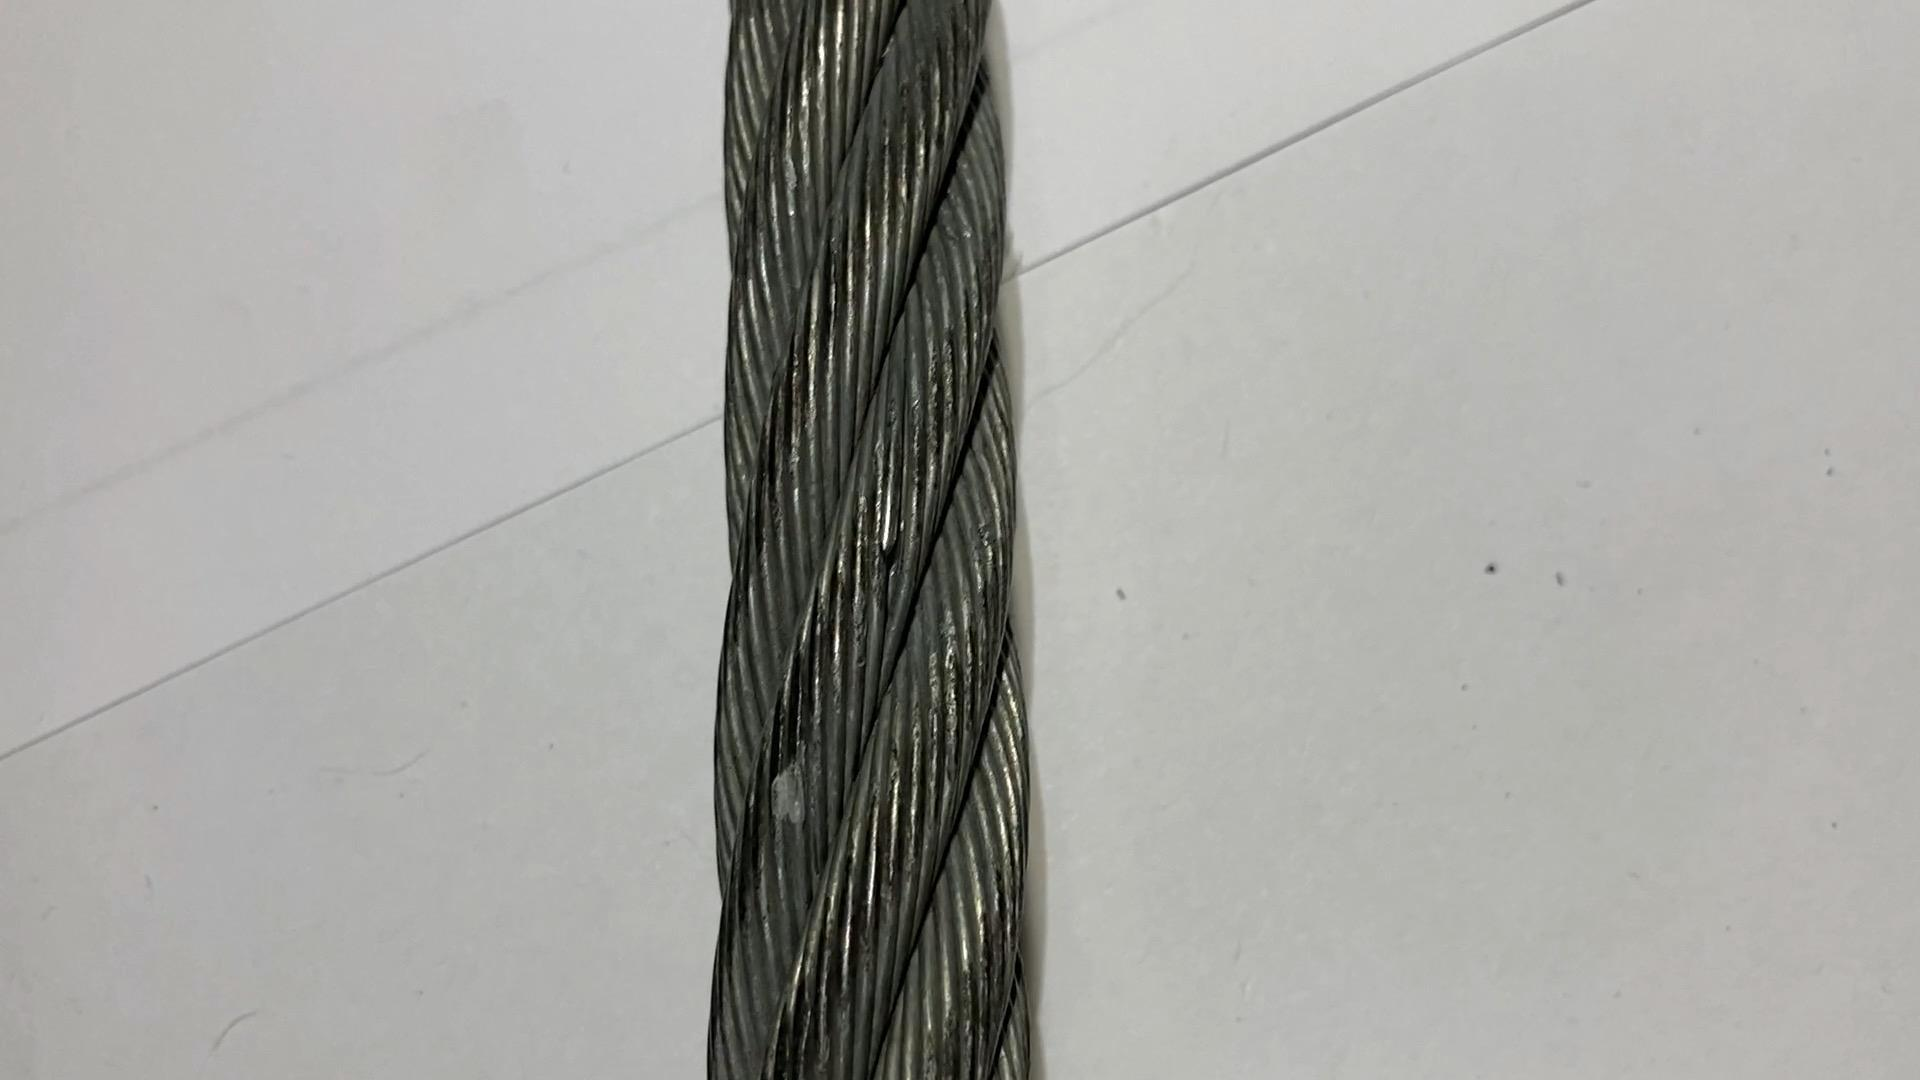break: (865, 491, 911, 563)
